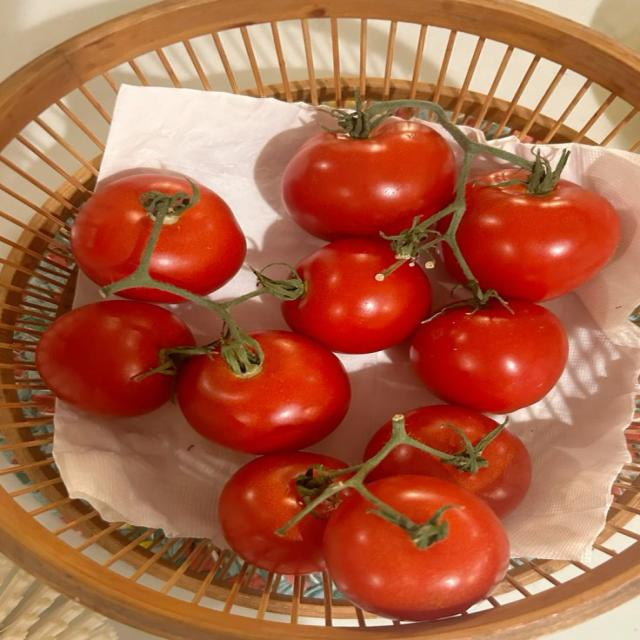tomato: (324, 475, 509, 620), (456, 169, 619, 301), (177, 331, 350, 454), (282, 121, 456, 240), (36, 301, 194, 416), (411, 299, 567, 413), (282, 238, 431, 353), (219, 452, 346, 574), (367, 429, 531, 518), (72, 173, 192, 285)
